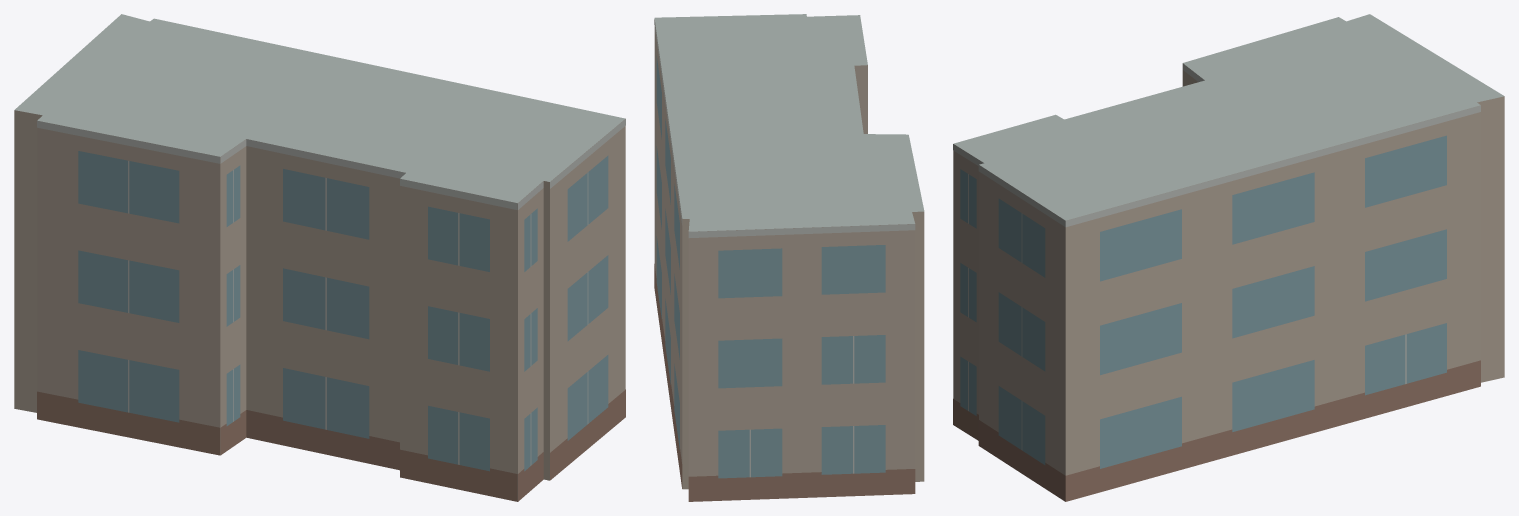
File: survey-upis-32671243.glb
The picture shows the model from 3 angles, left to right: view 1: azimuth 30°, elevation 25°; view 2: azimuth 150°, elevation 25°; view 3: azimuth 270°, elevation 25°; orthographic projection. The views are drawn at different scales.
Parts seen in each view (by area): view 1: survey-upis-32671243.tmp; view 2: survey-upis-32671243.tmp; view 3: survey-upis-32671243.tmp.
Boxes of the visible parts, x1,y1,x2,y2 form: survey-upis-32671243.tmp: (14, 14, 625, 501); survey-upis-32671243.tmp: (654, 14, 924, 501); survey-upis-32671243.tmp: (953, 14, 1504, 501).
Bounding box in the file's own units: 16.25 × 10.3 × 18.32.
